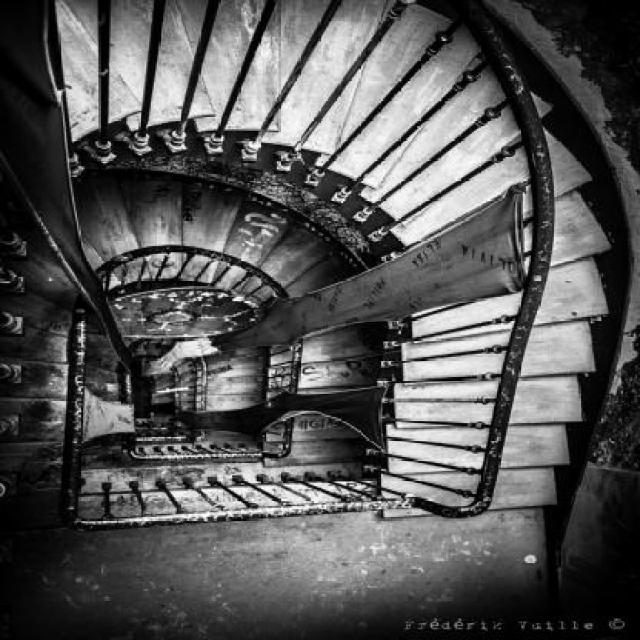stair: (0, 0, 620, 523)
